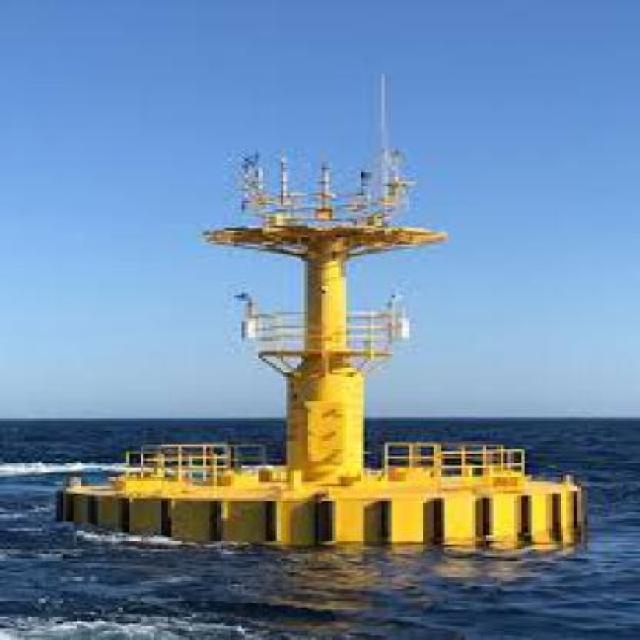buoy: (25, 64, 606, 561)
